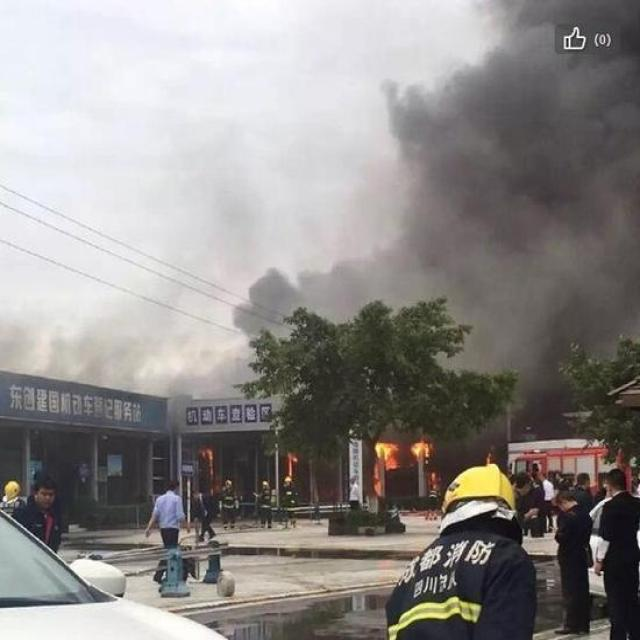Fire: (374, 439, 399, 494), (410, 438, 434, 460), (286, 452, 299, 480)
Smoke: (228, 1, 640, 411)
